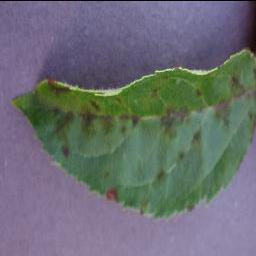apple healthy: (11, 46, 255, 220)
